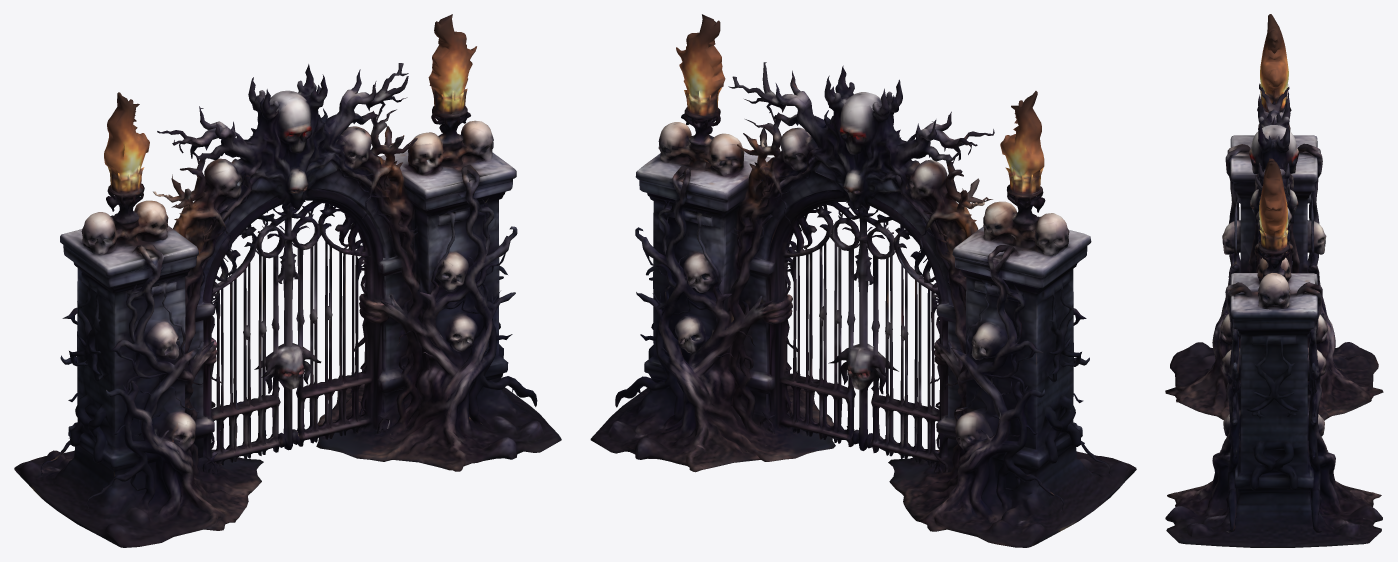
File: gothic-gate.glb
3 renders of one model, left to right at view 1: azimuth 30°, elevation 25°; view 2: azimuth 150°, elevation 25°; view 3: azimuth 270°, elevation 25°, orthographic. The views are drawn at different scales.
Visible parts, largest first — view 1: material; view 2: material; view 3: material.
Boxes of the visible parts, <box> form: material: <box>14,14,561,547</box>; material: <box>590,14,1136,547</box>; material: <box>1165,14,1383,547</box>.
Bounding box in the file's own units: 0.9002 × 0.7573 × 0.4155.
1 material, 1 textured.
